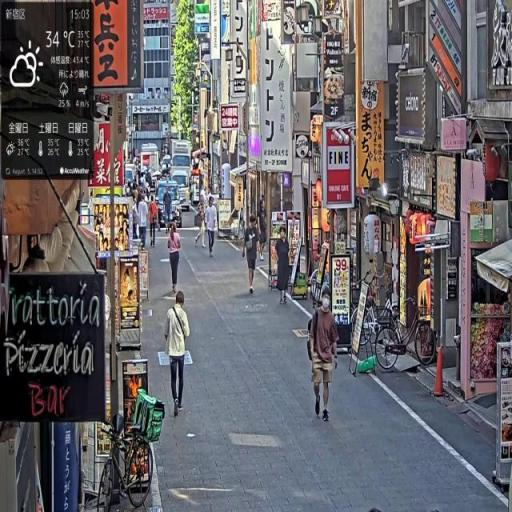person: (308, 288, 340, 422), (164, 288, 193, 418), (244, 214, 263, 297), (275, 224, 292, 306), (168, 219, 184, 292), (206, 197, 219, 259), (195, 200, 208, 252)
